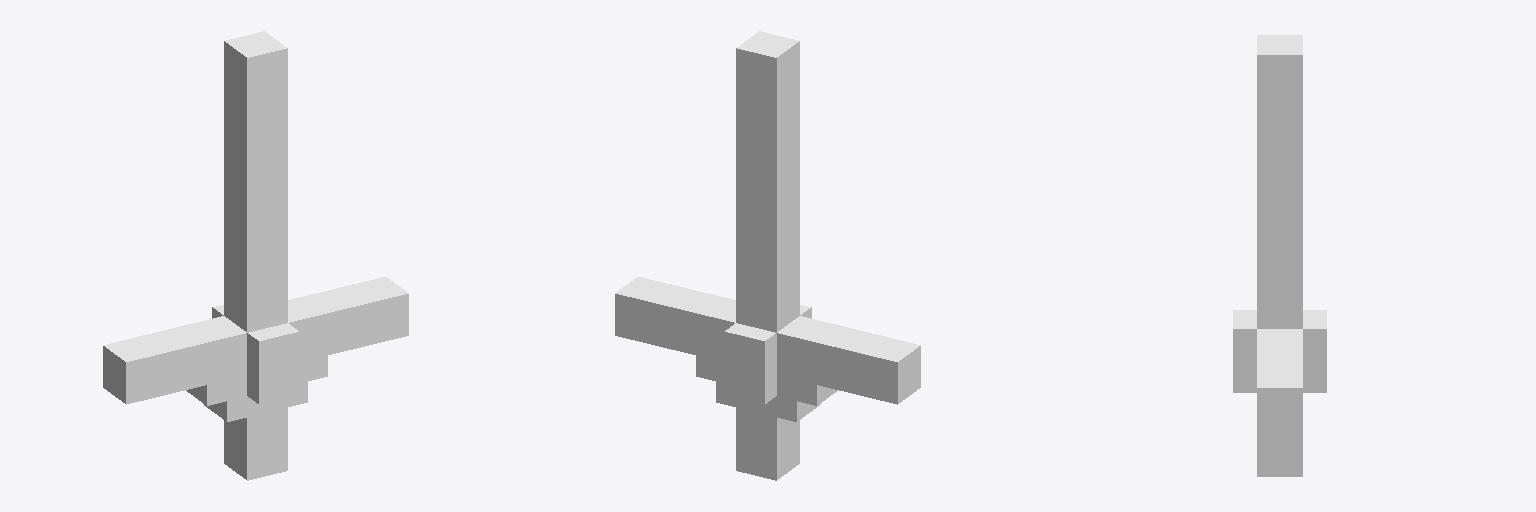
The model's file is 2hsword-black-white-handle.obj.
The picture shows the model from 3 angles: view 1: azimuth 30°, elevation 25°; view 2: azimuth 150°, elevation 25°; view 3: azimuth 270°, elevation 25°; orthographic projection.
Parts seen in each view (by area): view 1: object 1; view 2: object 1; view 3: object 1.
Boxes of the visible parts, x1,y1,x2,y2 form: object 1: [103, 31, 408, 480]; object 1: [615, 31, 920, 480]; object 1: [1233, 35, 1326, 476].
Bounding box in the file's own units: 1.4 × 2 × 0.4.